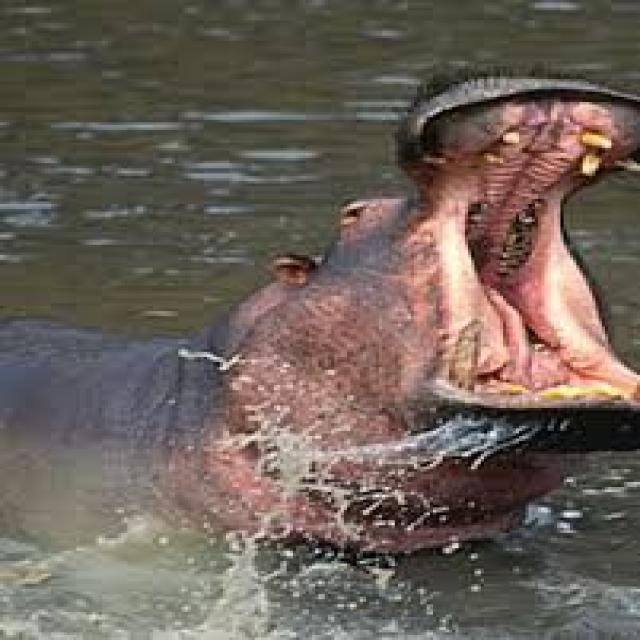Hippopotamus: (0, 73, 639, 567)
